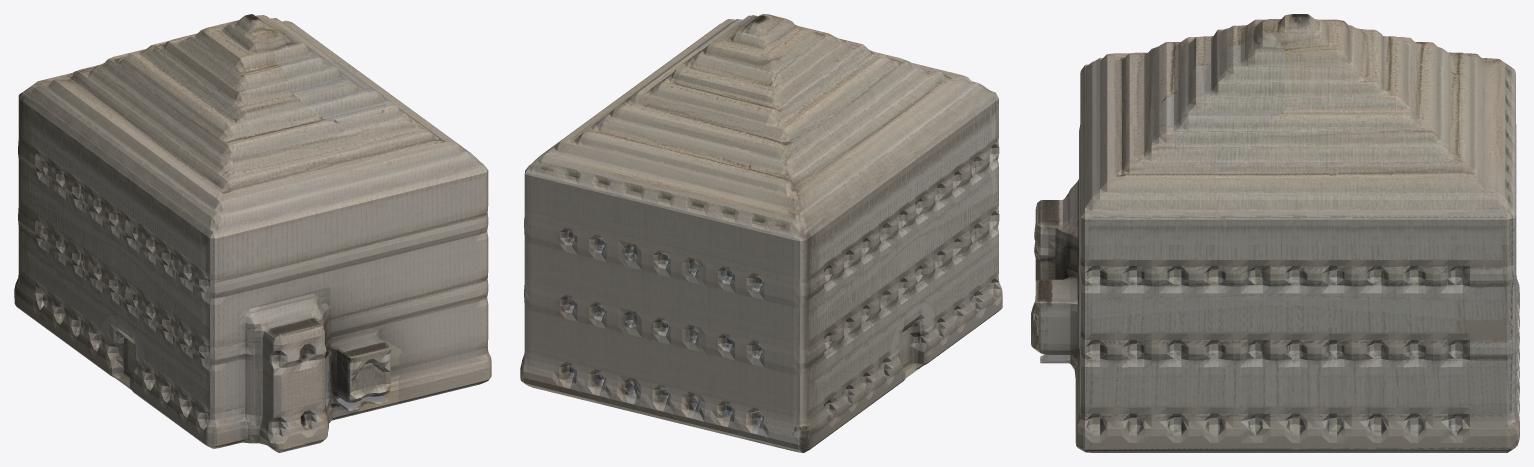
File: bay_building.glb
3 renders of one model, left to right at view 1: azimuth 30°, elevation 25°; view 2: azimuth 150°, elevation 25°; view 3: azimuth 270°, elevation 25°, orthographic. The views are drawn at different scales.
Parts seen in each view (by area): view 1: world; view 2: world; view 3: world.
Boxes of the visible parts, box(x1,y1,x2,y2) form: world: box(14, 14, 491, 452); world: box(520, 14, 1002, 452); world: box(1031, 14, 1519, 452).
Bounding box in the file's own units: 1.04 × 1.14 × 1.39.
1 material, 1 textured.
